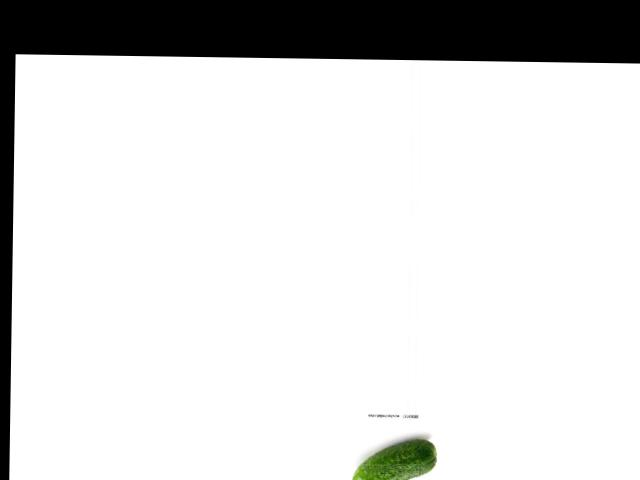cucumber: (352, 437, 437, 480)
